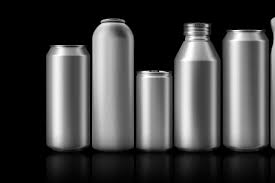can: (45, 43, 91, 154), (134, 66, 173, 152)
